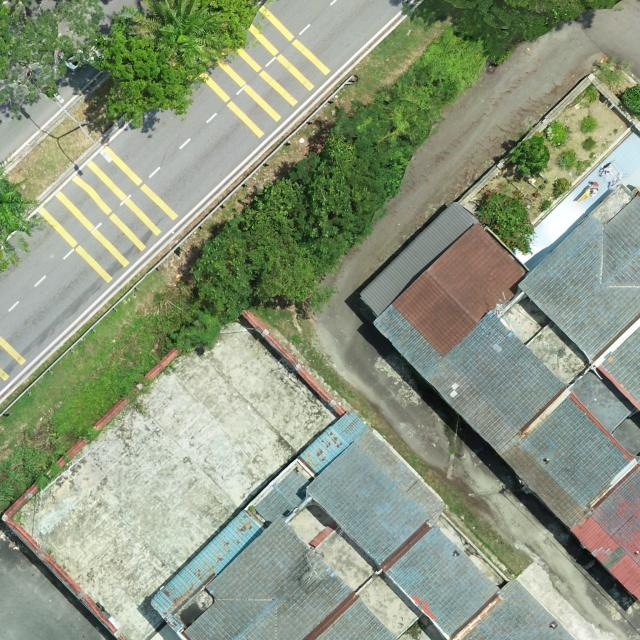tree: (90, 5, 209, 131), (0, 0, 107, 125), (122, 0, 229, 69), (0, 158, 42, 276), (476, 189, 536, 256), (510, 136, 550, 176)
